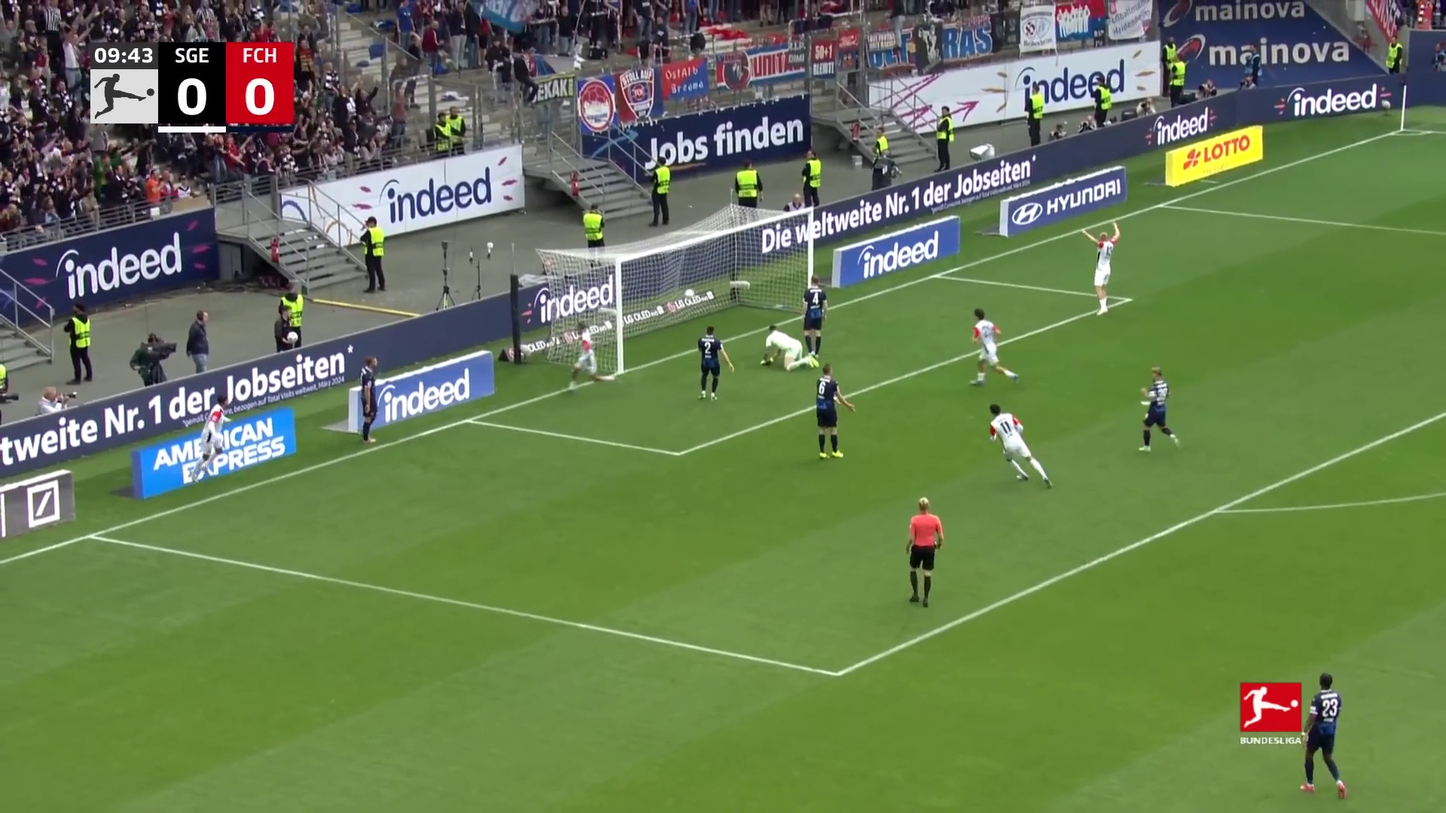ball: (684, 287, 695, 299)
player: (1295, 671, 1352, 801), (984, 402, 1053, 488), (1080, 224, 1133, 318), (808, 364, 858, 462), (1132, 365, 1185, 455), (964, 307, 1021, 389), (190, 392, 232, 486), (563, 321, 614, 392), (691, 325, 734, 403), (796, 275, 834, 360), (758, 325, 810, 372), (356, 354, 382, 447)
referee: (899, 497, 948, 611)
